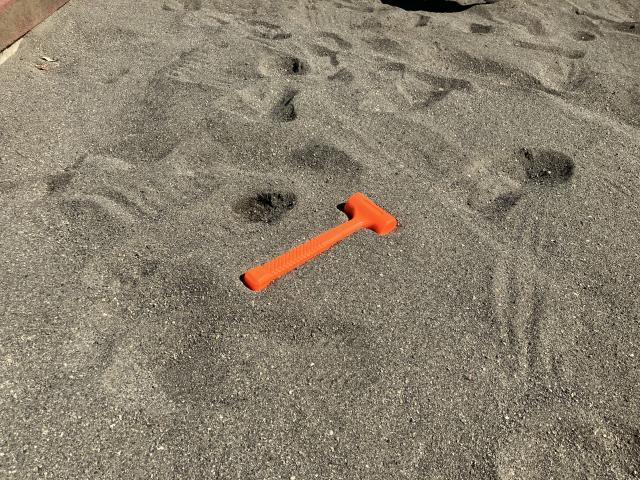hammer: (244, 193, 396, 292)
